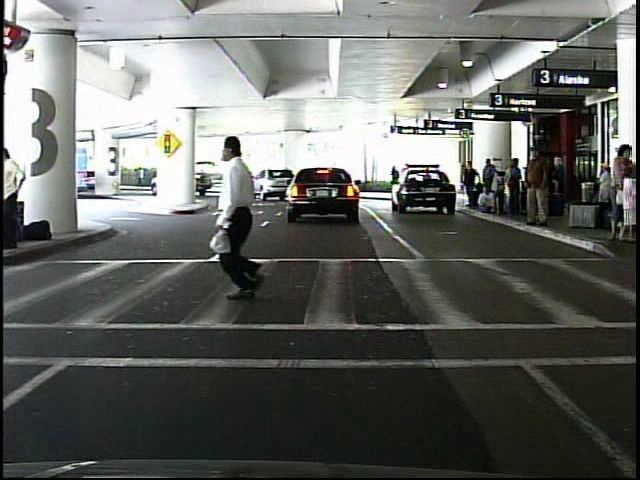person: (208, 130, 282, 309), (521, 143, 554, 230), (462, 161, 480, 210), (388, 162, 403, 200), (135, 163, 147, 189)
